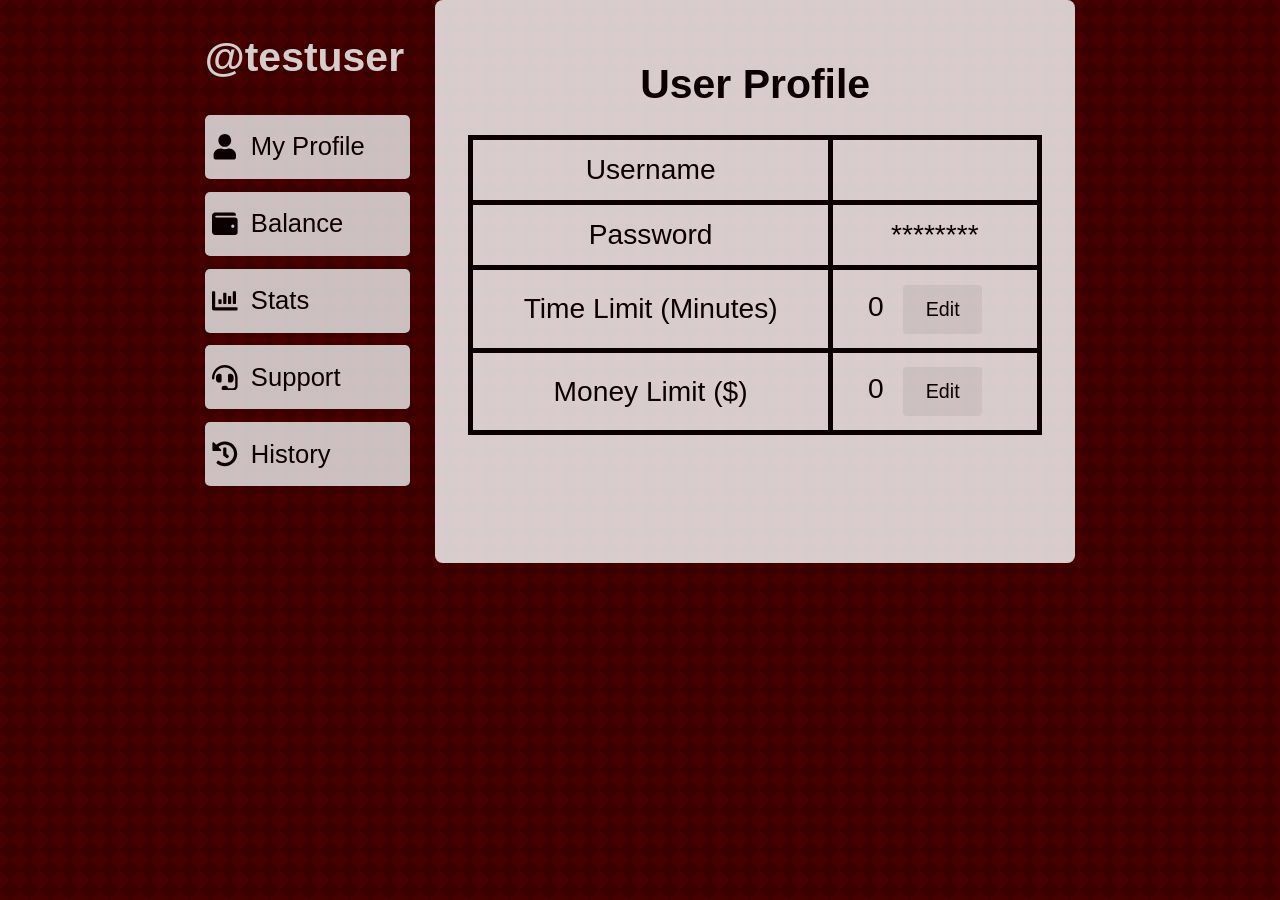
Scenario: Profile Component Integration Tests › test switching from one panel to MyProfile panel
Click the Balance button
Click the button "Balance".
click(307, 224)  # box [205,192,410,256]
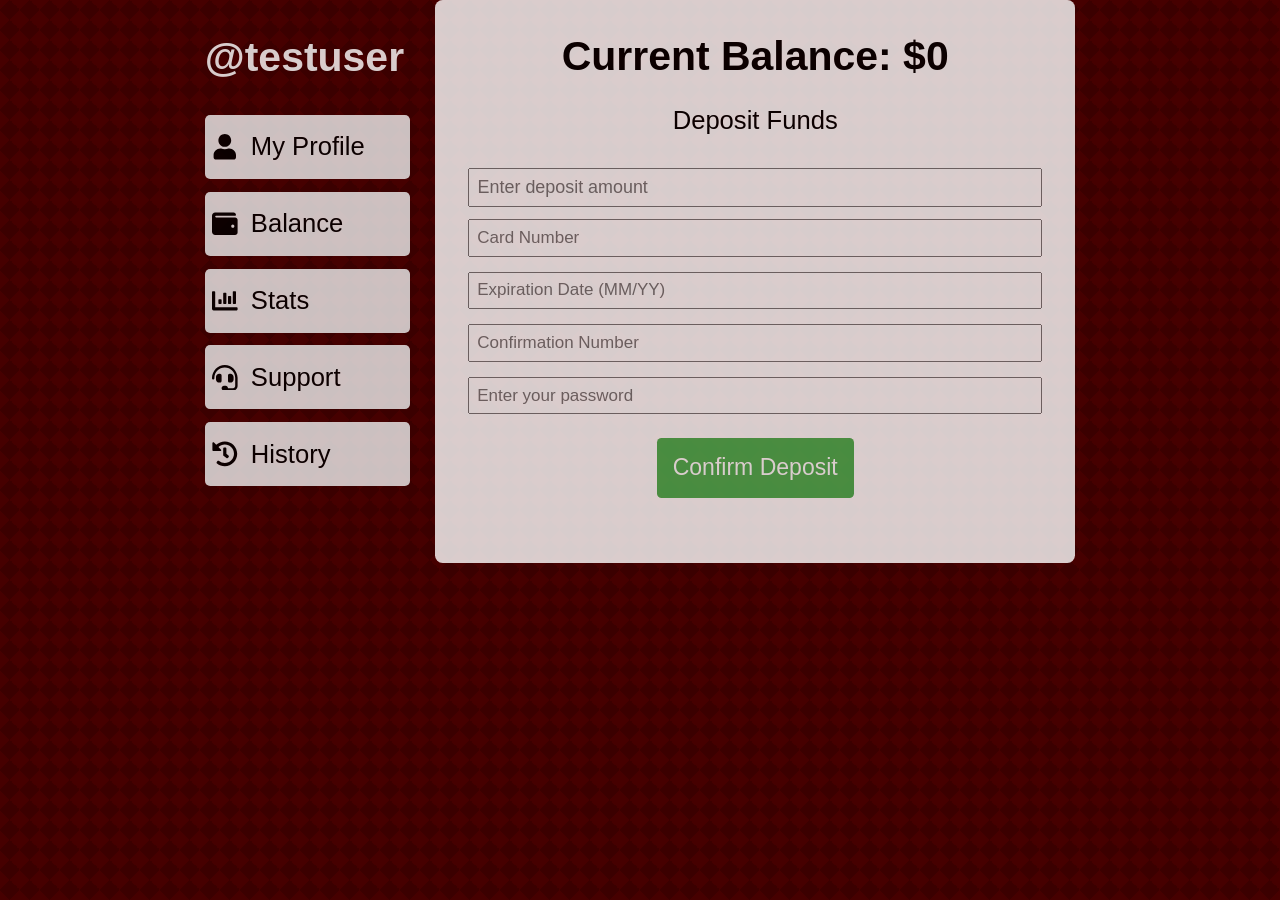
Expected: the text "Current Balance: $0" is shown, [562,33,949,79]
Click the My Profile button
Click the button "My Profile".
click(307, 147)  # box [205,115,410,179]
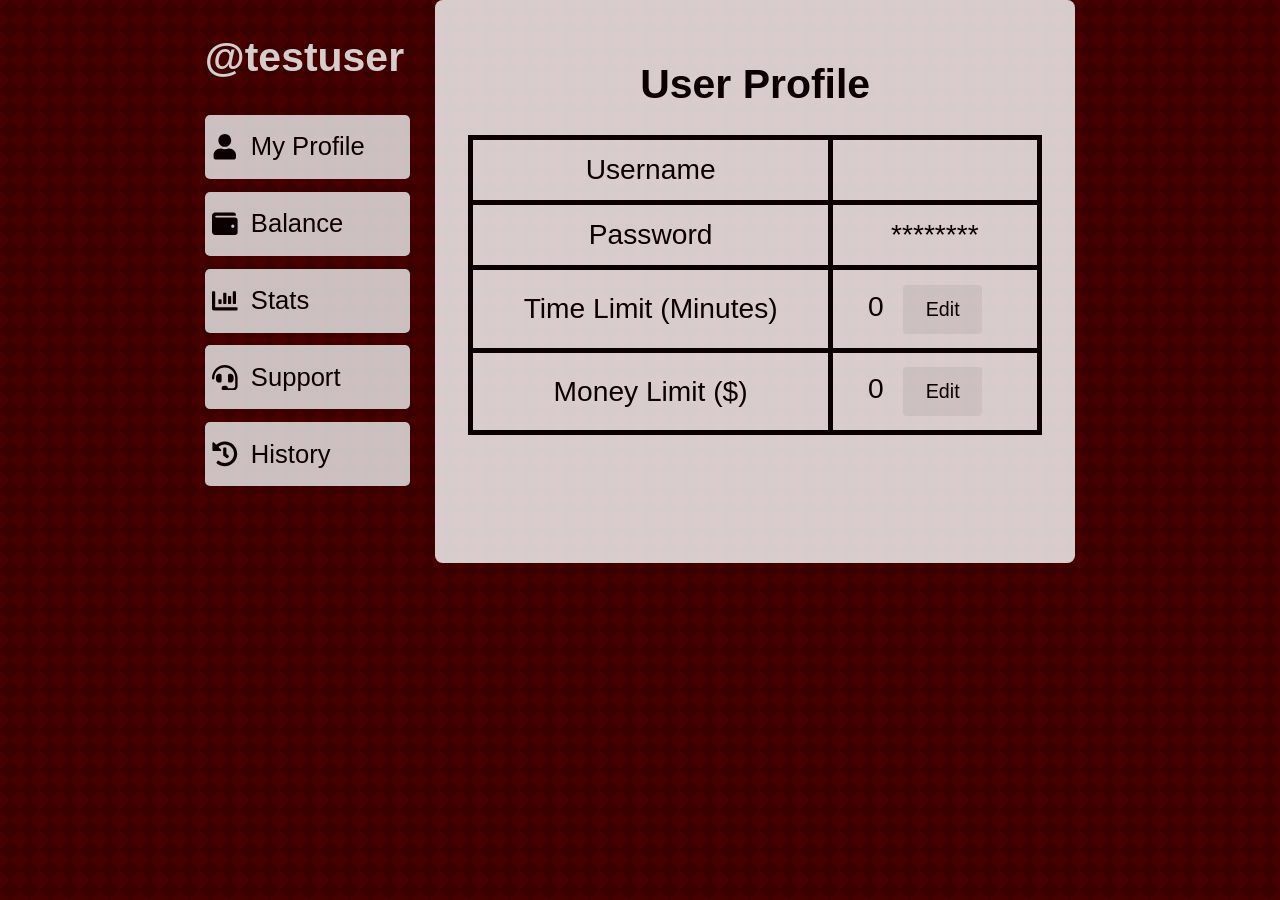
Expected: the heading "User Profile" is shown, [640,61,870,107]
